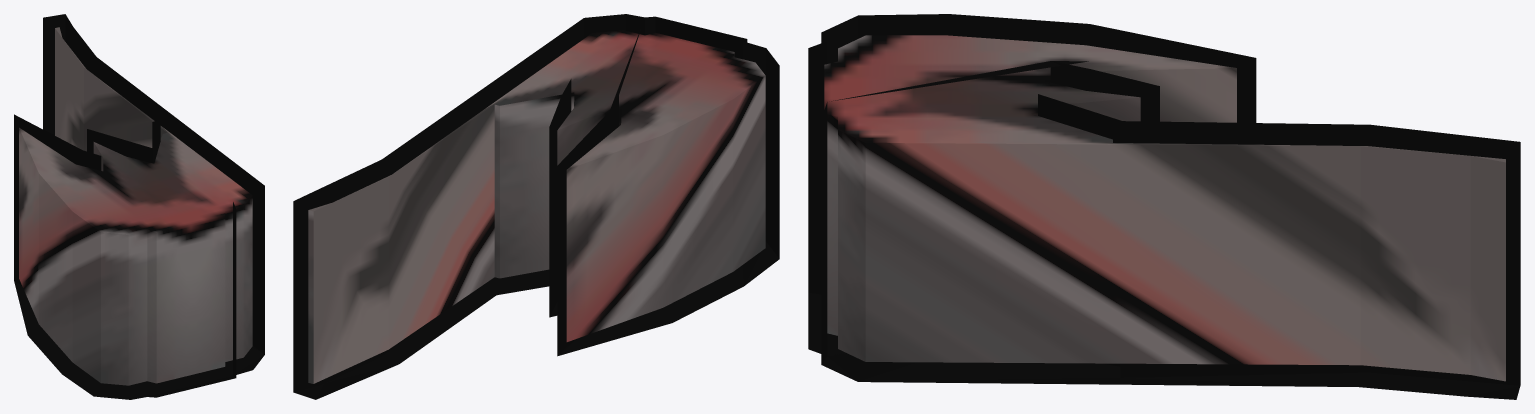
The model's file is Building_VoidSculpture_Things_Building_VoidSculpture_VoidSculptureA.glb.
3 views of the same model, side by side, from view 1: azimuth 30°, elevation 25°; view 2: azimuth 150°, elevation 25°; view 3: azimuth 270°, elevation 25° (orthographic). The views are drawn at different scales.
Parts seen in each view (by area): view 1: Body, Outline; view 2: Body, Outline; view 3: Body, Outline.
Part boxes in pixels (x1,y1,x2,y2): Body: (19, 27, 252, 385); Outline: (14, 14, 264, 399); Body: (308, 30, 765, 383); Outline: (293, 14, 779, 399); Body: (824, 35, 1505, 381); Outline: (808, 14, 1520, 399).
Size of the model in its own units: 0.6758 by 0.5803 by 1.44.
2 materials, 1 textured.
